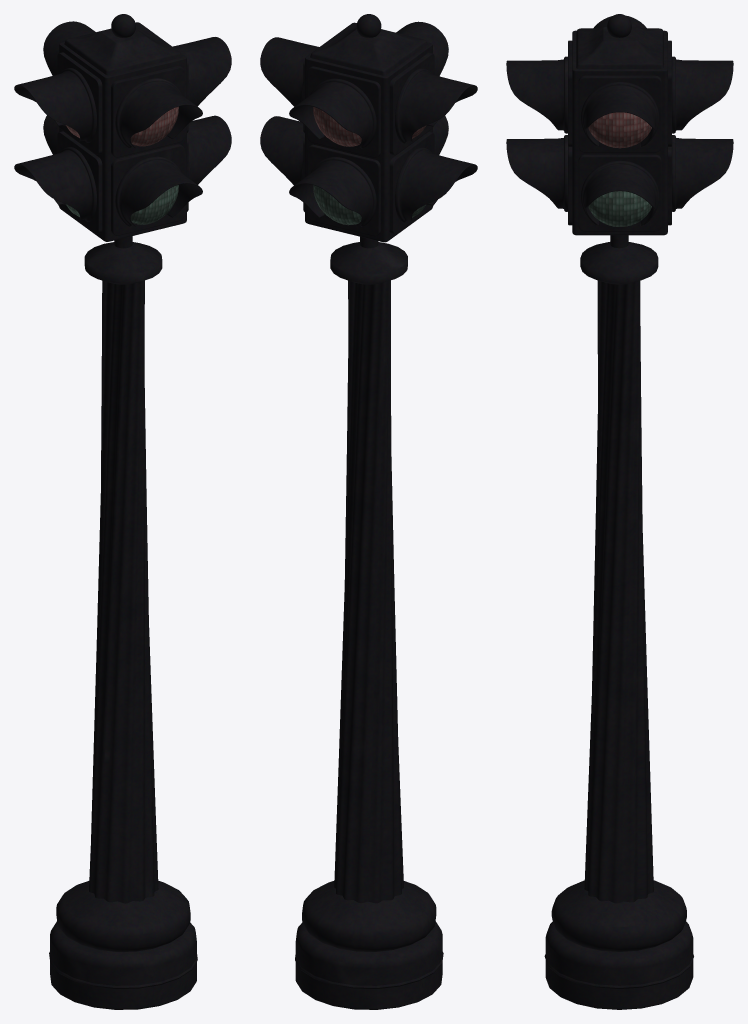
The model's file is AW_TrafficLight01_HB.fbx.
3 views of the same model, side by side, from view 1: azimuth 30°, elevation 25°; view 2: azimuth 150°, elevation 25°; view 3: azimuth 270°, elevation 25° (orthographic).
Visible parts, largest first — view 1: pCylinder30, pSphere18, pSphere20; view 2: pCylinder30, pSphere18, pSphere20; view 3: pCylinder30, pSphere20, pSphere18.
Boxes of the visible parts, x1=… form: pCylinder30: x1=14, y1=14, x2=231, y2=1009; pSphere18: x1=65, y1=106, x2=178, y2=146; pSphere20: x1=65, y1=185, x2=178, y2=224; pCylinder30: x1=260, y1=14, x2=477, y2=1009; pSphere18: x1=313, y1=107, x2=426, y2=146; pSphere20: x1=313, y1=185, x2=426, y2=225; pCylinder30: x1=506, y1=14, x2=733, y2=1009; pSphere20: x1=588, y1=191, x2=651, y2=226; pSphere18: x1=588, y1=112, x2=651, y2=148.
Size of the model in its own units: 0.8573 by 4.01 by 0.8545.
Materials: 3 (3 with a texture image).
